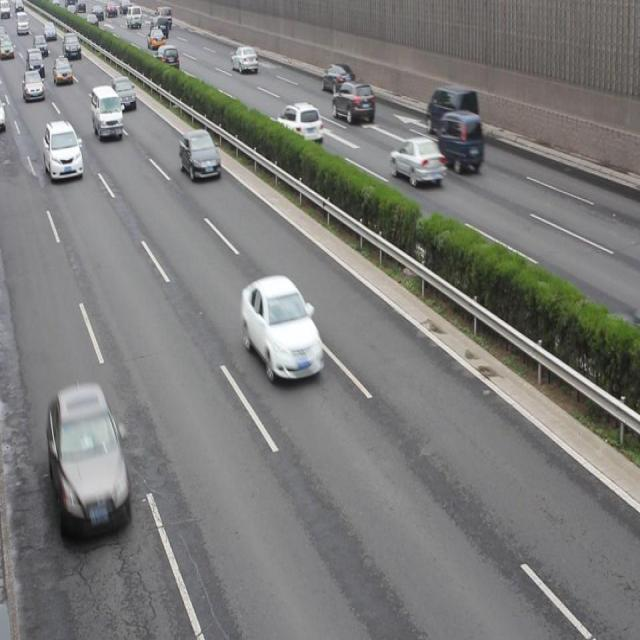car: (49, 382, 134, 548), (242, 271, 325, 384), (434, 110, 485, 172), (391, 139, 449, 187), (46, 122, 86, 183), (181, 130, 226, 184), (278, 104, 328, 146), (335, 80, 378, 124), (323, 64, 358, 94), (113, 77, 139, 110), (24, 70, 46, 102), (154, 44, 181, 70), (232, 46, 259, 72), (54, 56, 74, 85), (28, 47, 47, 75), (64, 33, 84, 59), (148, 25, 166, 48)
truck: (426, 86, 481, 137), (94, 85, 125, 139)
